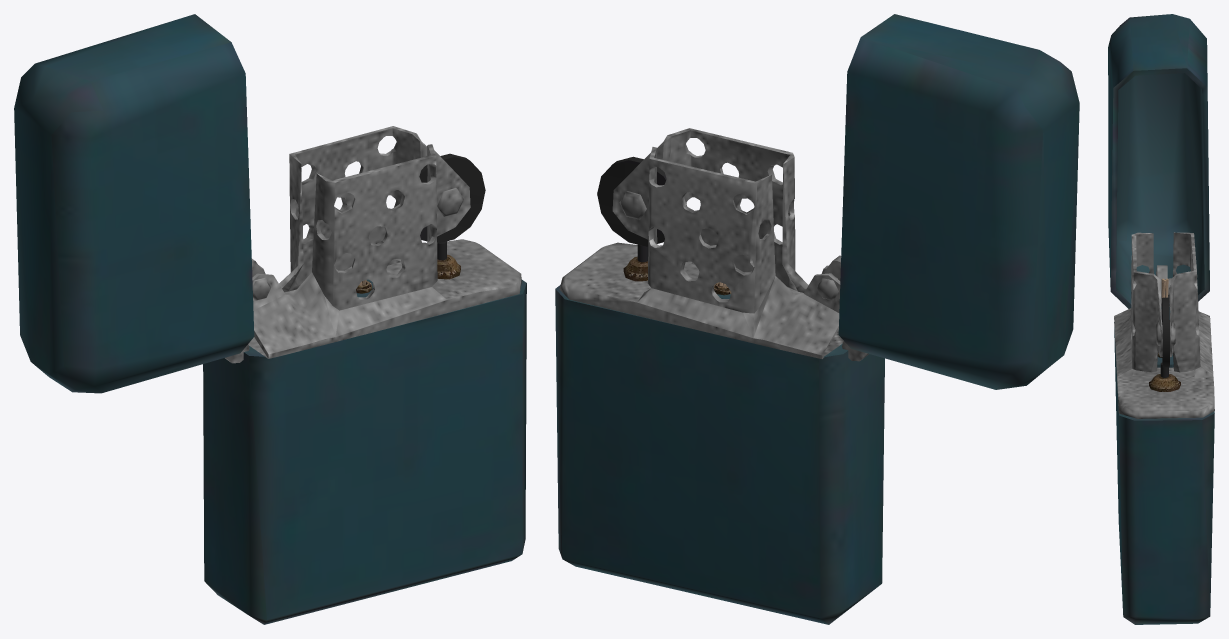
Rendered from isqueiro.glb.
The picture shows the model from 3 angles, left to right: view 1: azimuth 30°, elevation 25°; view 2: azimuth 150°, elevation 25°; view 3: azimuth 270°, elevation 25°; orthographic projection. The views are drawn at different scales.
Visible parts, largest first — view 1: Cylinder.002_kzemien_2_0; view 2: Cylinder.002_kzemien_2_0; view 3: Cylinder.002_kzemien_2_0.
Boxes of the visible parts, x1,y1,x2,y2 form: Cylinder.002_kzemien_2_0: (14,14,526,624); Cylinder.002_kzemien_2_0: (555,14,1079,624); Cylinder.002_kzemien_2_0: (1108,14,1214,624).
Size of the model in its own units: 0.2997 by 0.3536 by 0.0757.
Materials: 6 (6 with a texture image).
